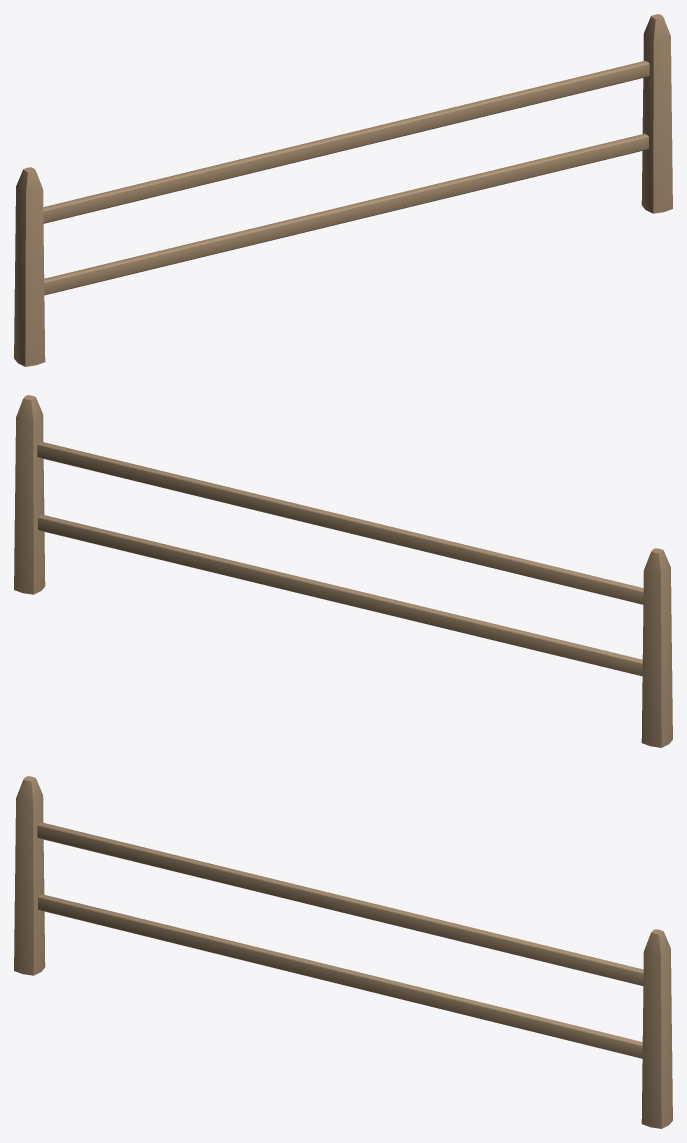
Rendered from prop_fence_wood.glb.
3 renders of one model, top to bottom at view 1: azimuth 30°, elevation 25°; view 2: azimuth 150°, elevation 25°; view 3: azimuth 330°, elevation 25°, orthographic.
Parts seen in each view (by area): view 1: prop_fence_wood; view 2: prop_fence_wood; view 3: prop_fence_wood.
Boxes of the visible parts, x1=… form: prop_fence_wood: x1=14, y1=14, x2=672, y2=366; prop_fence_wood: x1=14, y1=395, x2=672, y2=747; prop_fence_wood: x1=14, y1=776, x2=672, y2=1128.
Size of the model in its own units: 4.15 by 1.16 by 0.15.
